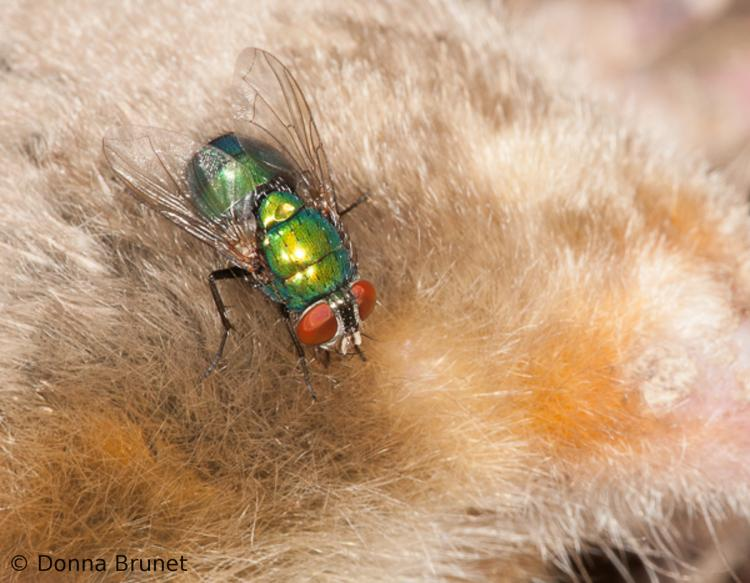green bottles flies: (79, 28, 435, 396)
